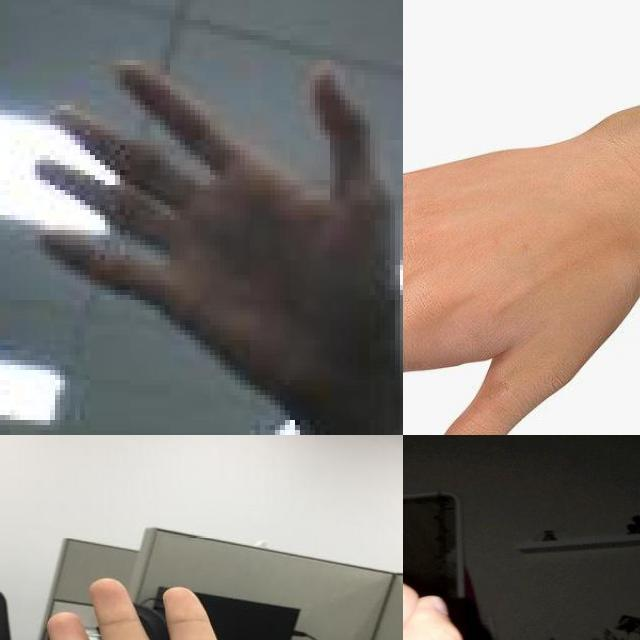no-gloves: (30, 55, 400, 400), (403, 95, 640, 435), (403, 435, 598, 640), (0, 574, 358, 640)
